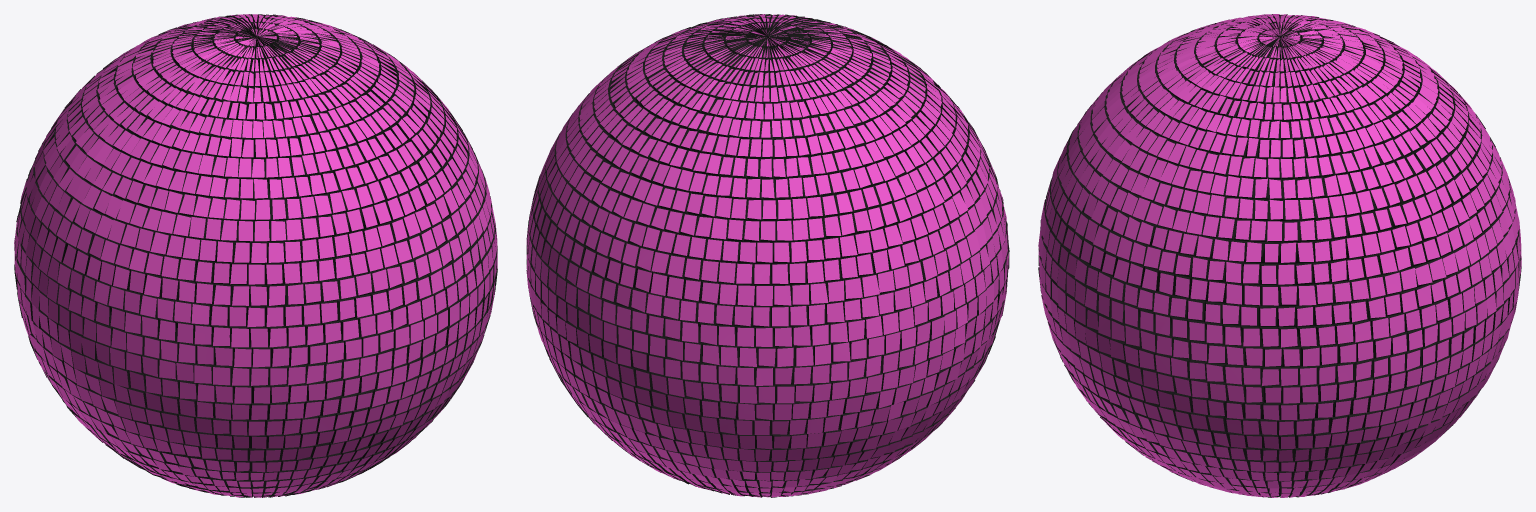
Rendered from disco-ball-draco-v1.glb.
3 renders of one model, left to right at view 1: azimuth 30°, elevation 25°; view 2: azimuth 150°, elevation 25°; view 3: azimuth 270°, elevation 25°, orthographic.
Parts seen in each view (by area): view 1: pSphere3_disco_mat_0, pSphere3_non_disco_mat_0; view 2: pSphere3_disco_mat_0, pSphere3_non_disco_mat_0; view 3: pSphere3_disco_mat_0, pSphere3_non_disco_mat_0.
Part boxes in pixels (x1,y1,x2,y2): pSphere3_disco_mat_0: (14, 14, 497, 497); pSphere3_non_disco_mat_0: (14, 14, 497, 497); pSphere3_disco_mat_0: (526, 14, 1009, 497); pSphere3_non_disco_mat_0: (526, 14, 1009, 497); pSphere3_disco_mat_0: (1038, 14, 1521, 497); pSphere3_non_disco_mat_0: (1038, 14, 1521, 497).
Size of the model in its own units: 2.02 by 2.02 by 2.02.
